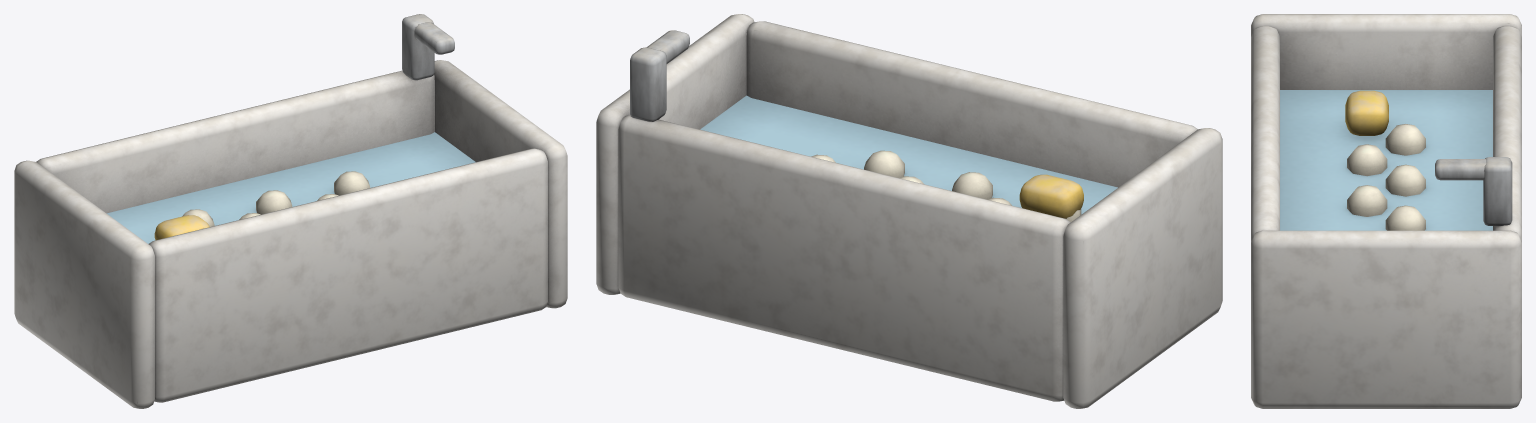
Rendered from bathtub.fbx.
The picture shows the model from 3 angles, left to right: view 1: azimuth 30°, elevation 25°; view 2: azimuth 150°, elevation 25°; view 3: azimuth 270°, elevation 25°; orthographic projection. The views are drawn at different scales.
Visible parts, largest first — view 1: Body, Tap; view 2: Body, Tap; view 3: Body, Tap.
Boxes of the visible parts, <box> form: Body: <box>14,60,567,408</box>; Tap: <box>402,14,454,80</box>; Body: <box>596,14,1222,408</box>; Tap: <box>630,30,689,121</box>; Body: <box>1251,14,1521,408</box>; Tap: <box>1435,157,1512,225</box>.
Size of the model in its own units: 5.6 by 2.65 by 2.8.
1 material, 1 textured.
